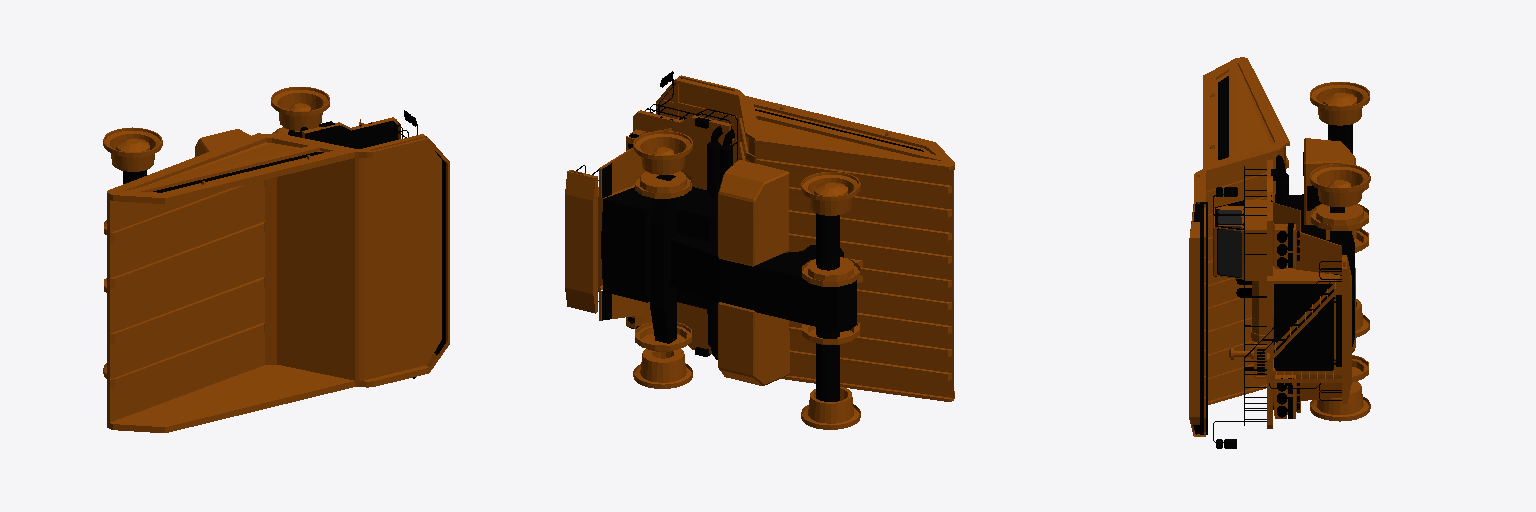
The model's file is mining-dump-truck.obj.
3 views of the same model, side by side, from view 1: azimuth 30°, elevation 25°; view 2: azimuth 150°, elevation 25°; view 3: azimuth 270°, elevation 25° (orthographic).
Parts seen in each view (by area): view 1: Body, Trim, Platform; view 2: Body, Chassis, Trim; view 3: Body, Chassis, Trim, Part05, Windows, SeatsLights.
Part boxes in pixels (left/top/right/bottom): Body: left=103, top=87, right=449, bottom=432; Trim: left=153, top=121, right=445, bottom=354; Platform: left=305, top=121, right=397, bottom=148; Body: left=565, top=75, right=954, bottom=429; Chassis: left=600, top=126, right=856, bottom=401; Trim: left=602, top=78, right=923, bottom=356; Body: left=1189, top=57, right=1370, bottom=436; Chassis: left=1274, top=124, right=1354, bottom=367; Trim: left=1193, top=76, right=1342, bottom=434; Part05: left=1213, top=152, right=1341, bottom=448; Windows: left=1218, top=210, right=1241, bottom=276; SeatsLights: left=1236, top=231, right=1287, bottom=417.
Size of the model in its own units: 7.25 by 5.42 by 3.4.